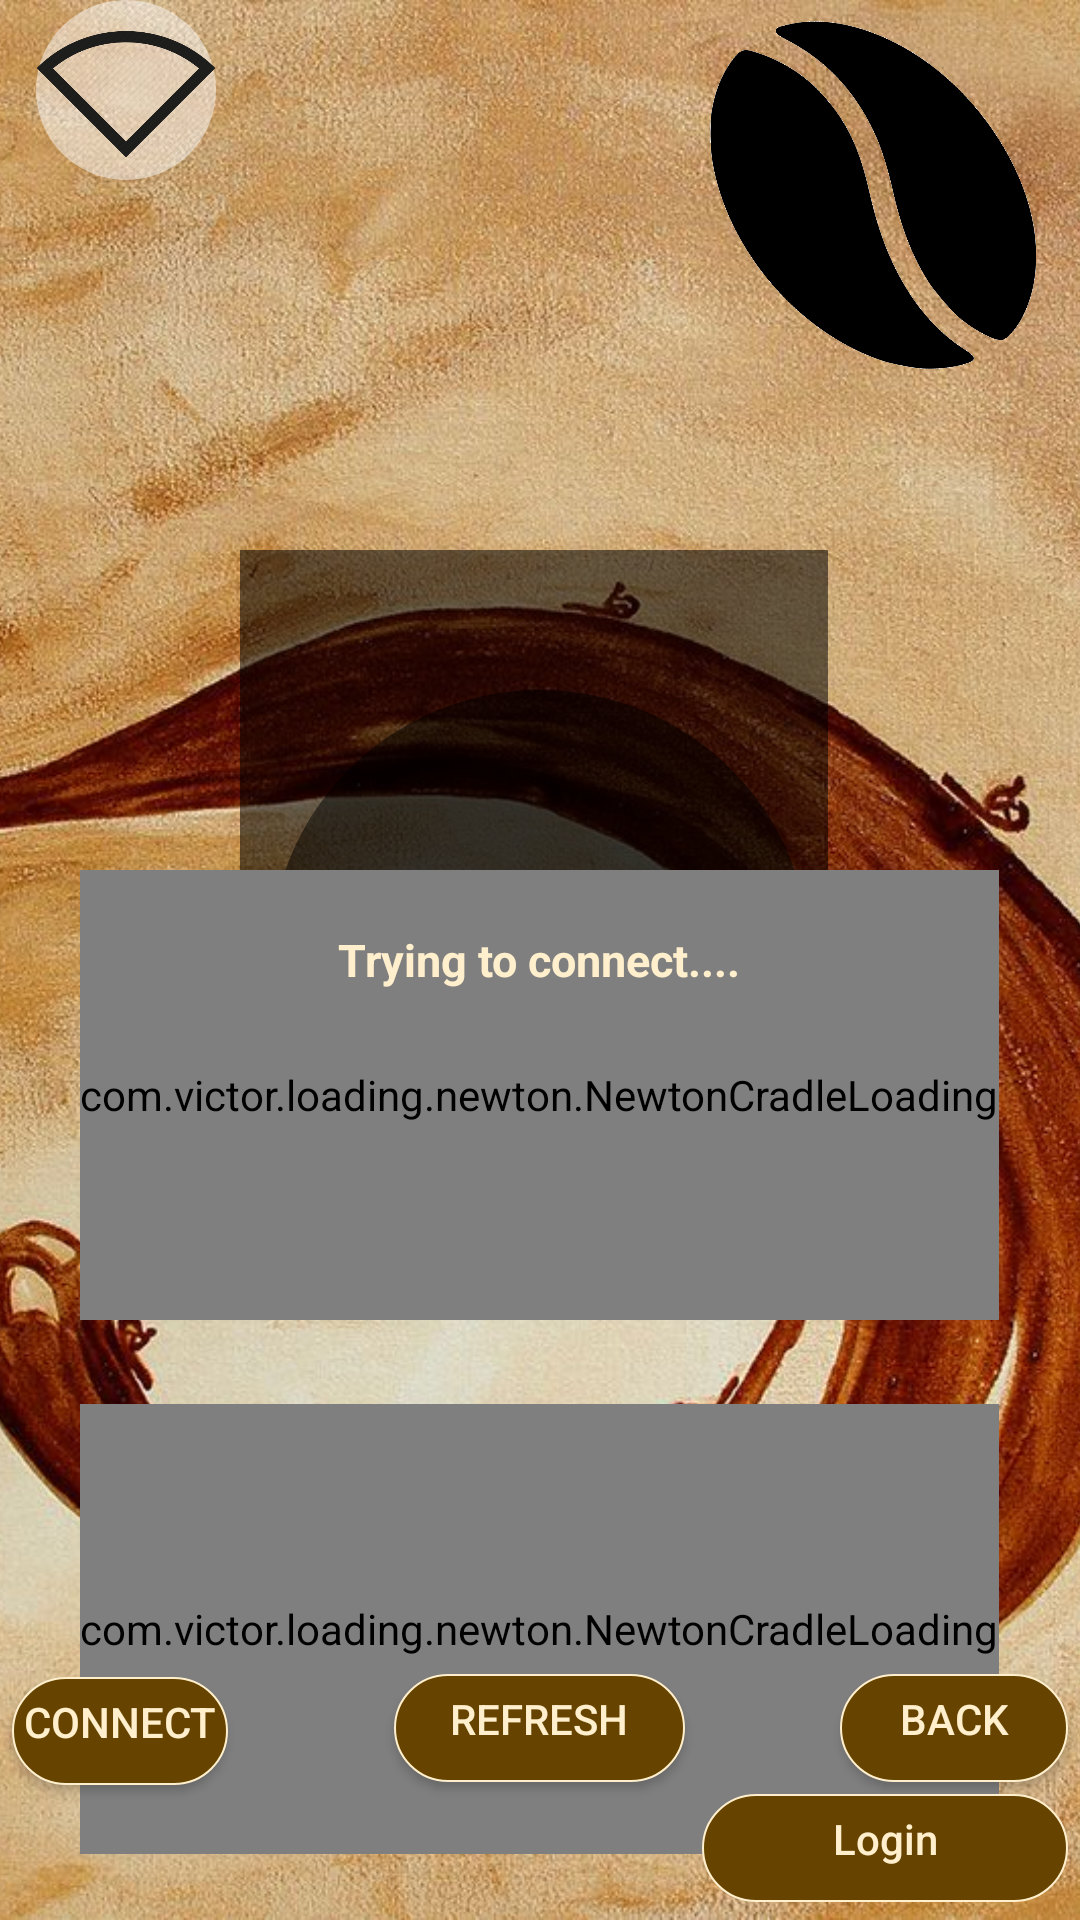

Icons on this 1080px x 1920px Android screen, each with its box as {"left": x1, "top": y1, "right": x2, "bottom": y2}:
nowifi: {"left": 36, "top": 0, "right": 216, "bottom": 180}
